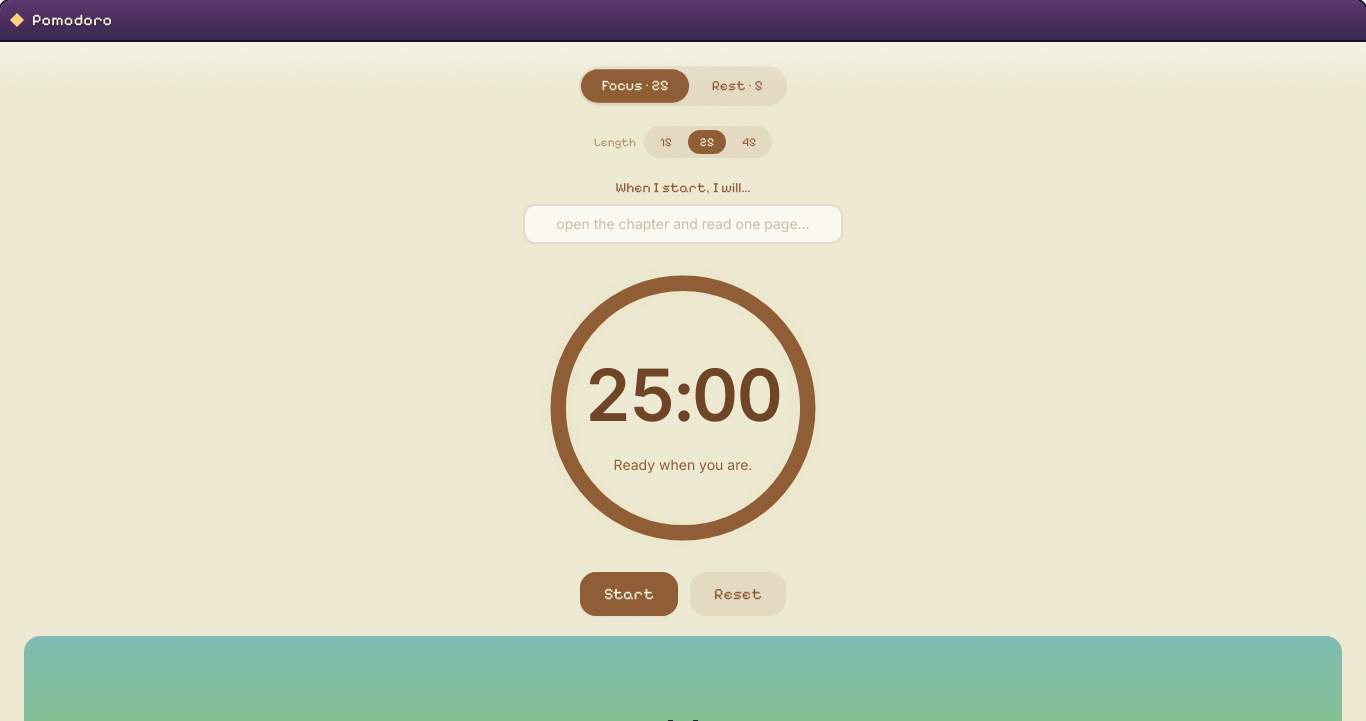
Test case: PomodoroTimer — session bloom + harvest ceremony › completion opens the harvest ceremony, and Esc hands off into the reflection
The width and height of the screenshot is (1366, 721).
Click the button "Start".
click(629, 594)  # box [580, 572, 678, 616]
Wait 1500000 ms
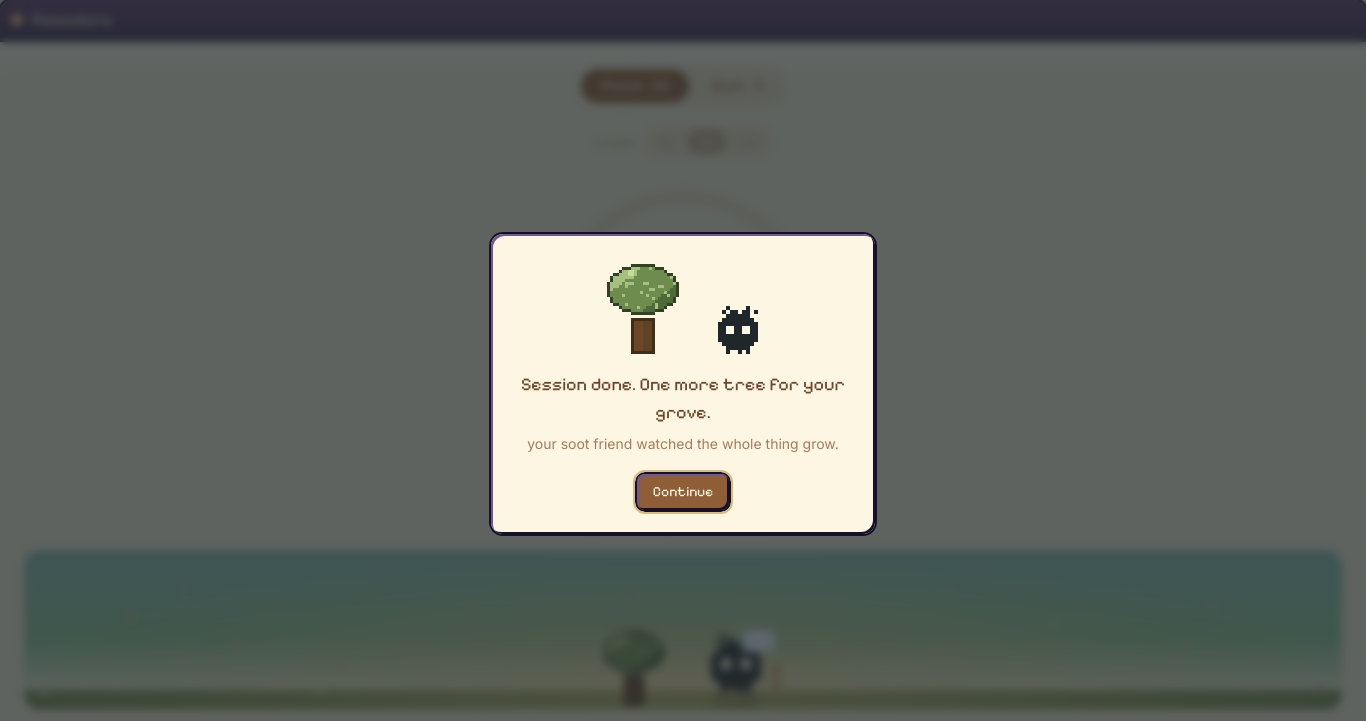
Expected: the dialog named "a little harvest" shows "One more tree for your grove", [521, 373, 845, 423]
Press Escape
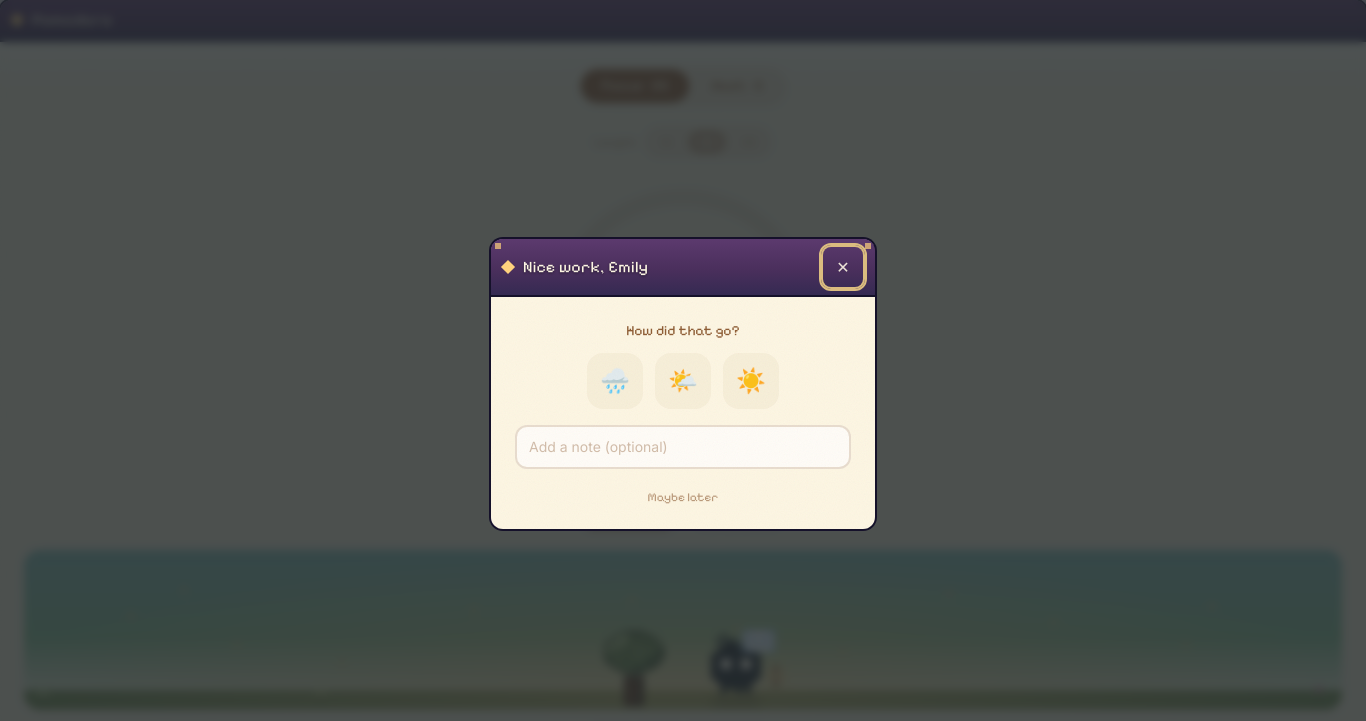
Expected: the dialog named "session reflection" is shown, [491, 239, 875, 529]
